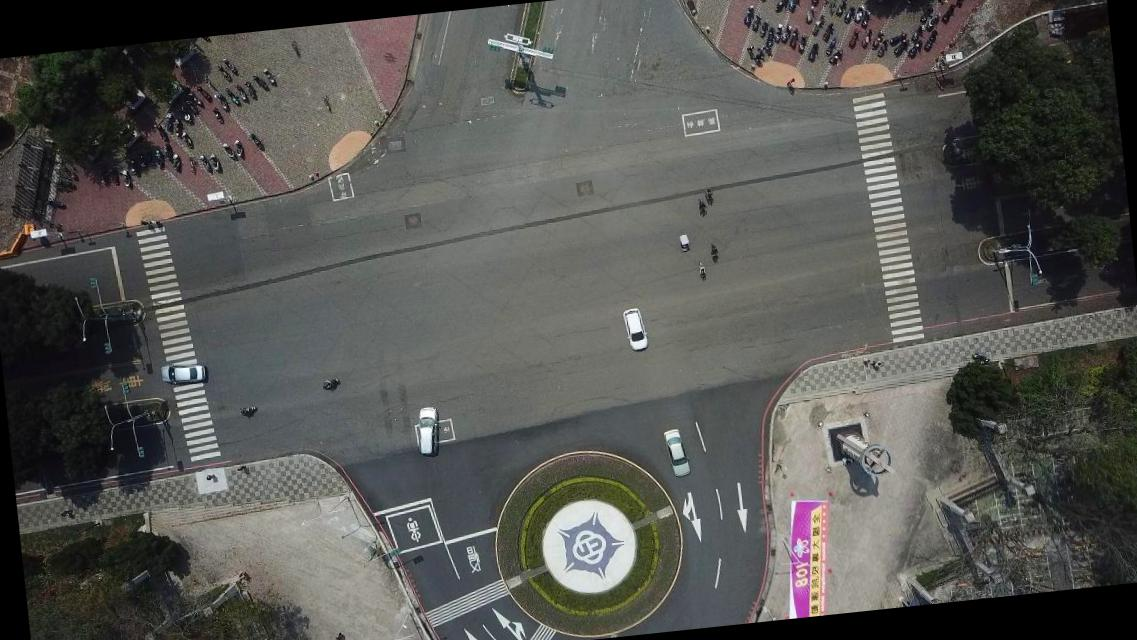vehicle: (662, 428, 692, 478), (416, 407, 442, 456), (622, 307, 649, 353), (161, 363, 206, 384)
